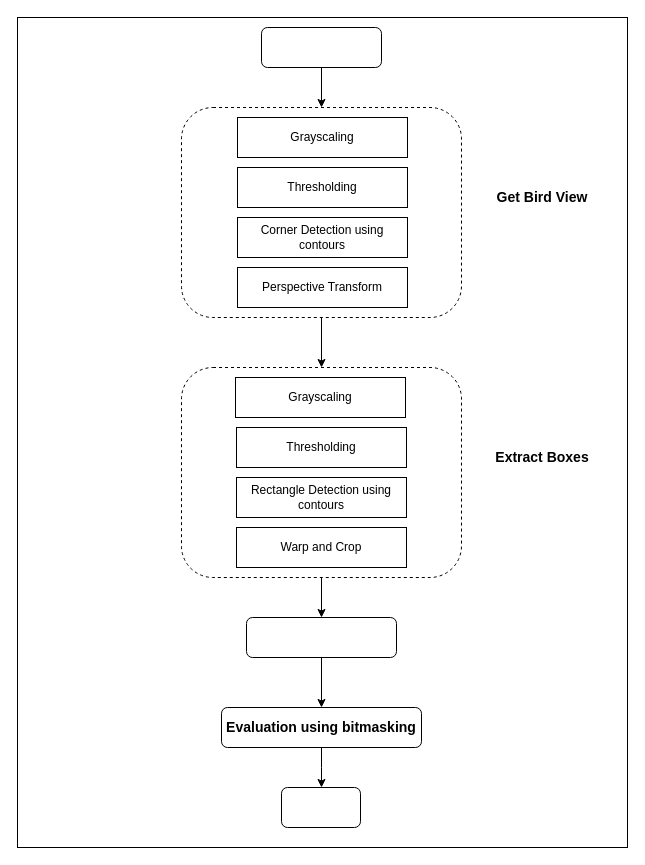
This 645x865 diagram has some shape labels left out. Each missing label, with the centre of its shape:
Finding Bubble contours: point (321, 637)
Read Image: point (321, 47)
Result: point (320, 807)
